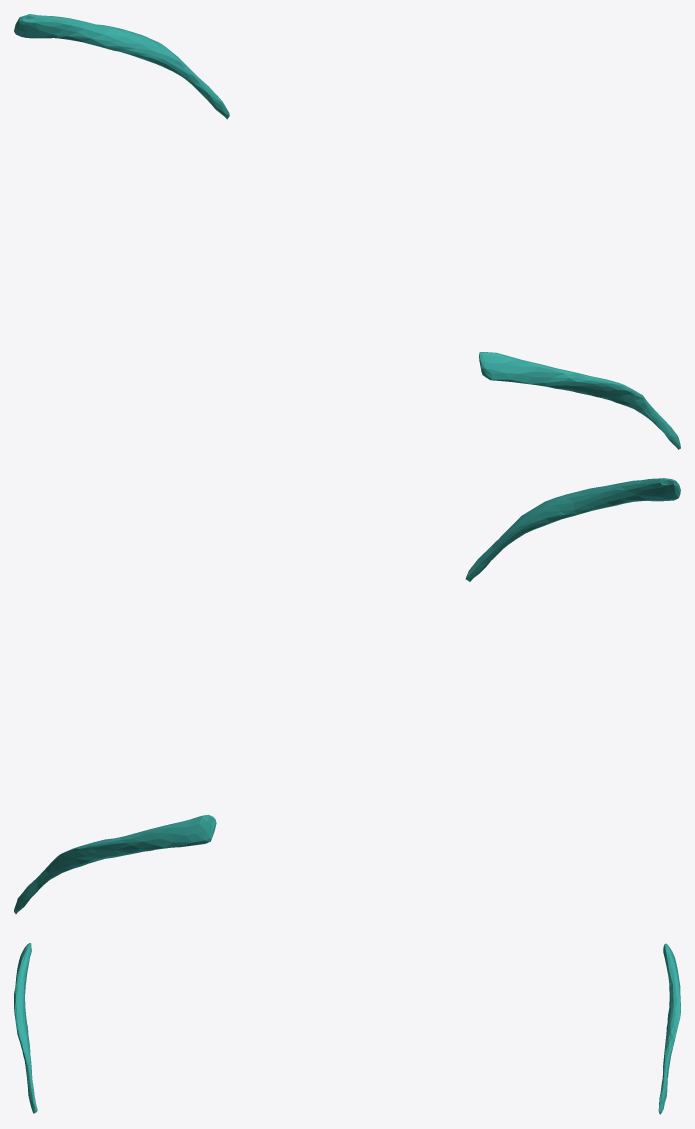
3 views of the same model, one above another, from view 1: azimuth 30°, elevation 25°; view 2: azimuth 150°, elevation 25°; view 3: azimuth 270°, elevation 25° (orthographic). The views are drawn at different scales.
Visible parts, largest first — view 1: 540.obj; view 2: 540.obj; view 3: 540.obj.
Part boxes in pixels (x1,y1,x2,y2): 540.obj: [14, 14, 680, 449]; 540.obj: [14, 478, 680, 914]; 540.obj: [14, 943, 680, 1114].
Bounding box in the file's own units: 2500 × 1730 × 10084.
